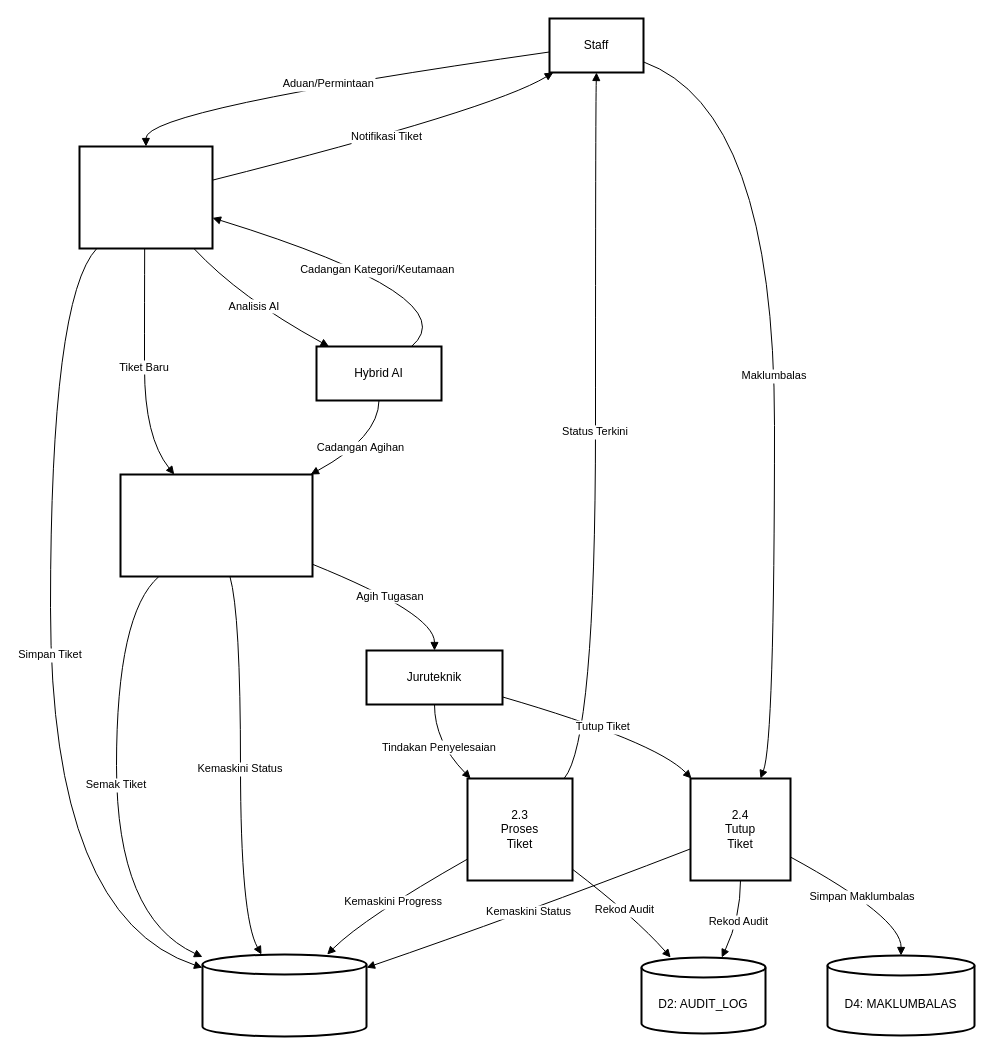
This 992x1054 diagram has some shape labels left out. The centre of each missing label's shape, as x and y in pixels:
"2.1 Buat Tiket Helpdesk" belongs at (x=145, y=197).
"2.2 Agih Tiket kepada Juruteknik" belongs at (x=216, y=525).
"D3: TIKET_HELPDESK" belongs at (x=284, y=995).
